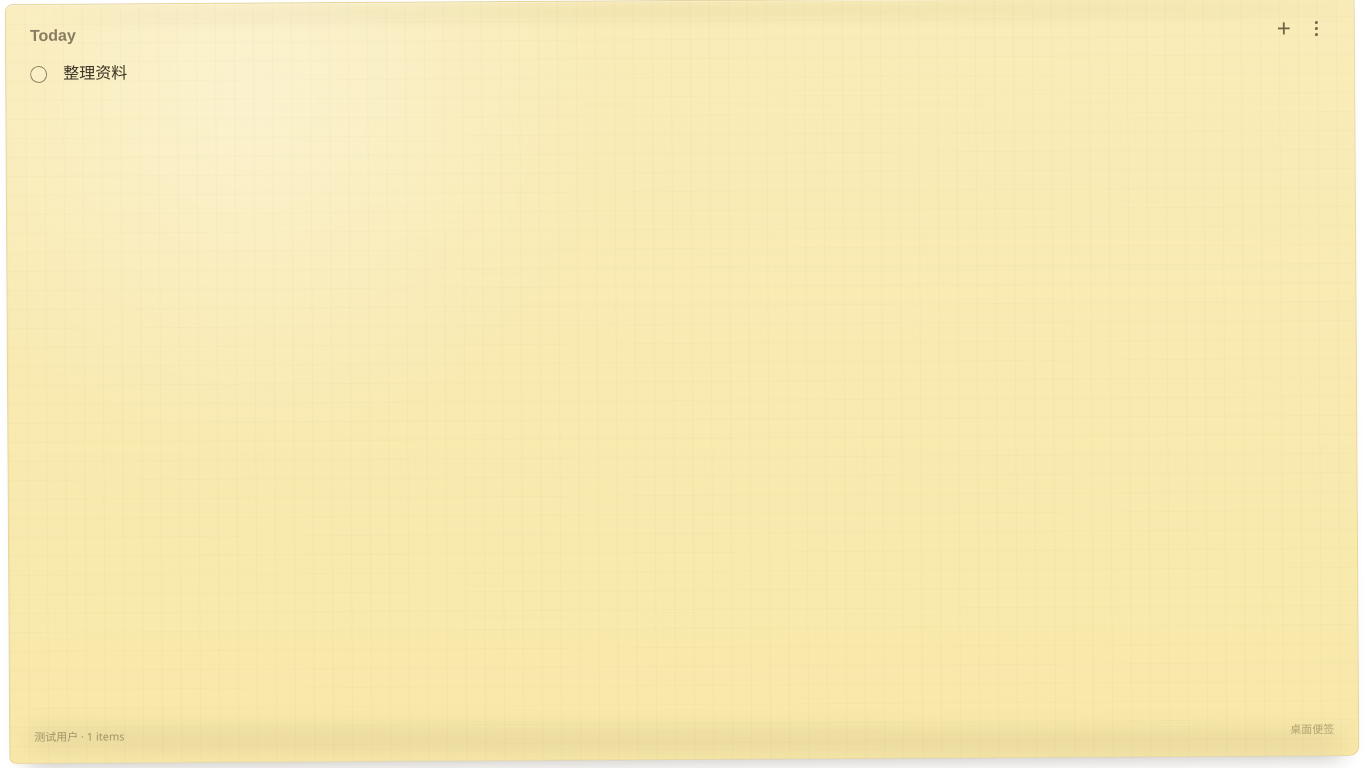
Test: 桌面便签核心交互 › 生命周期日志在任务详情中展示
Click the button with class "task-main" at (95, 73), box [63,55,1330,90]
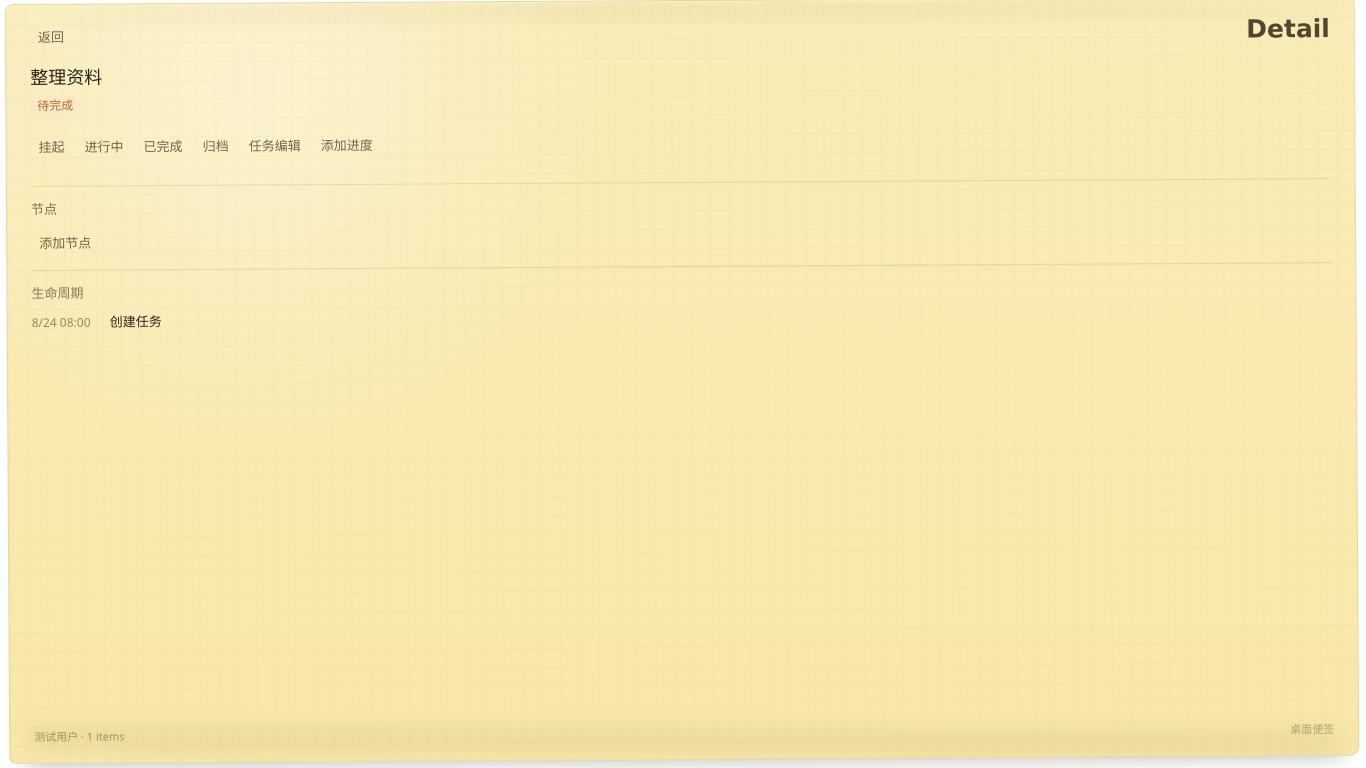
Now the element with class "event-list" shows "创建任务", box [110,313,162,331]
